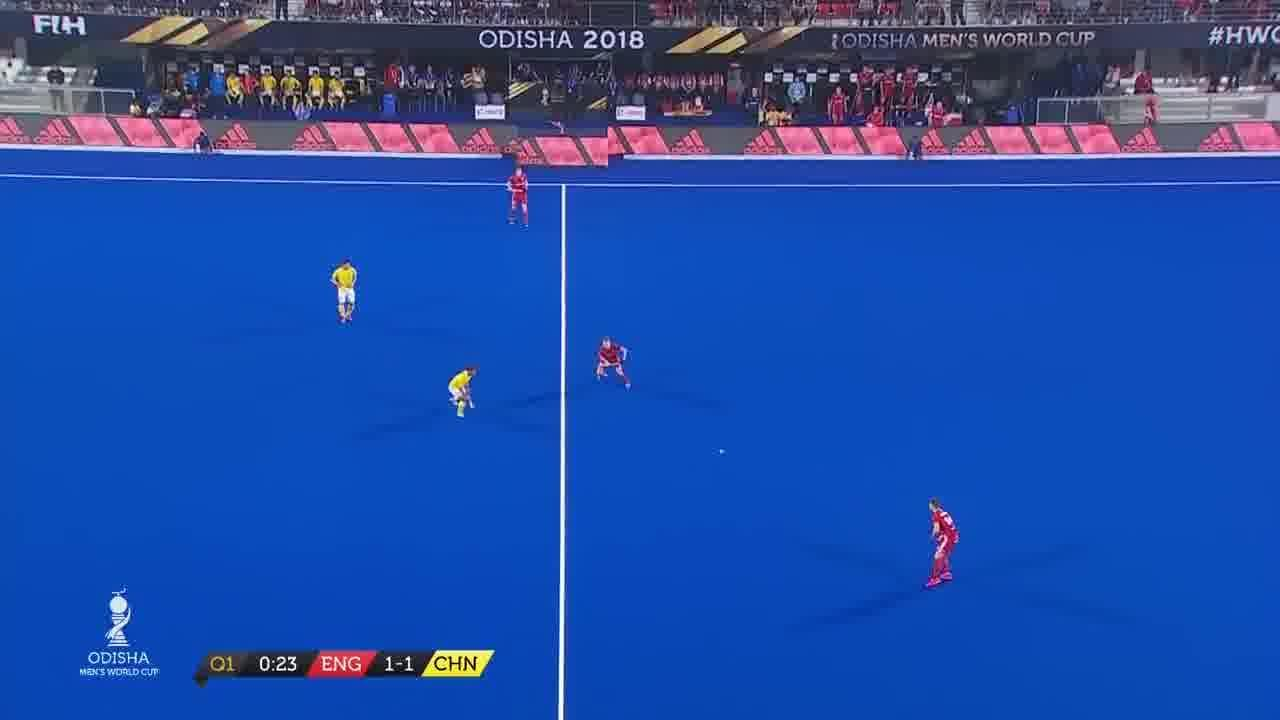ball: (712, 444, 732, 463)
